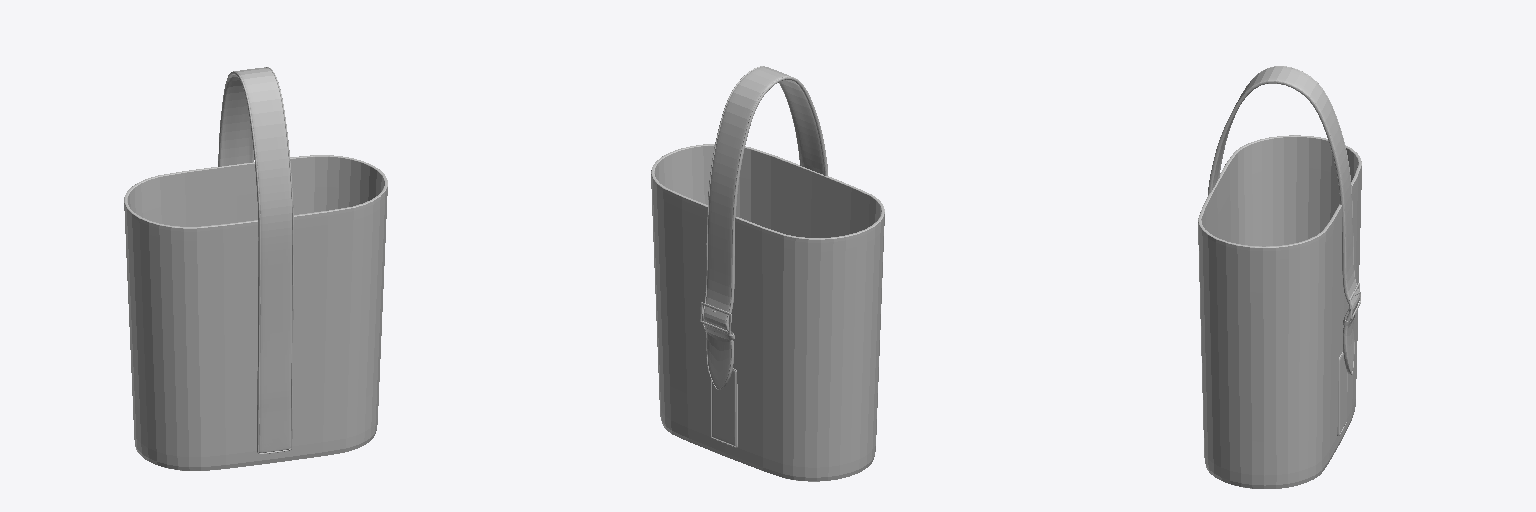
The model's file is bolsa4 .obj.
3 views of the same model, side by side, from view 1: azimuth 30°, elevation 25°; view 2: azimuth 150°, elevation 25°; view 3: azimuth 270°, elevation 25° (orthographic).
Bounding box in the file's own units: 599 × 906 × 368.